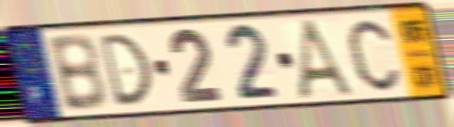2: (223, 20, 285, 104), (168, 25, 227, 107)
A: (295, 16, 361, 100)
B: (44, 31, 110, 115)
C: (345, 16, 403, 93)
D: (96, 30, 156, 109)
